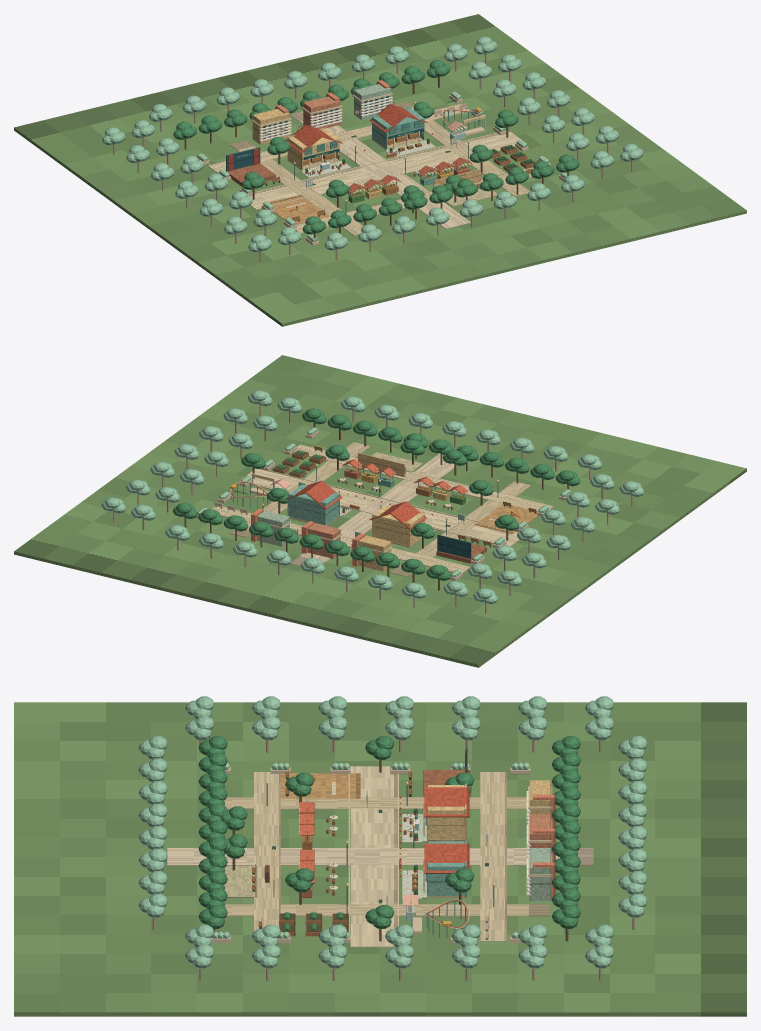
The model's file is estate.glb.
3 views of the same model, one above another, from view 1: azimuth 30°, elevation 25°; view 2: azimuth 150°, elevation 25°; view 3: azimuth 270°, elevation 25° (orthographic). The views are drawn at different scales.
Parts seen in each view (by area): view 1: Continuous neighbourhood terrain, Leafy rain tree canopy.001, Leafy rain tree canopy, East west pedestrian street, Side lane, North south pedestrian street, Cross lane, Rain tree trunk.001, Common corridor, Pitched roof, Rubber playground, Plaster back wall.001 (+7 smaller); view 2: Continuous neighbourhood terrain, Leafy rain tree canopy.001, Leafy rain tree canopy, Cross lane, Side lane, North south pedestrian street, East west pedestrian street, Plaster back wall.001, Rain tree trunk.001, Plaster back wall, Pitched roof, Rubber playground (+9 smaller); view 3: Continuous neighbourhood terrain, Leafy rain tree canopy.001, Leafy rain tree canopy, Cross lane, East west pedestrian street, Side lane, North south pedestrian street, Pitched roof, Rubber playground, Plaster back wall, HDB block.002, Plaster back wall.001 (+9 smaller).
Part boxes in pixels (<box>): Continuous neighbourhood terrain: <box>14,14,746,326</box>; Leafy rain tree canopy.001: <box>102,36,643,252</box>; Leafy rain tree canopy: <box>173,60,579,234</box>; East west pedestrian street: <box>250,131,525,209</box>; Side lane: <box>229,101,529,235</box>; North south pedestrian street: <box>290,111,470,228</box>; Cross lane: <box>207,103,533,233</box>; Rain tree trunk.001: <box>113,53,633,262</box>; Common corridor: <box>259,96,392,141</box>; Pitched roof: <box>285,104,427,153</box>; Rubber playground: <box>269,195,329,224</box>; Plaster back wall.001: <box>372,107,424,149</box>; Continuous neighbourhood terrain: <box>14,355,746,667</box>; Leafy rain tree canopy.001: <box>101,390,644,604</box>; Leafy rain tree canopy: <box>173,408,580,580</box>; Cross lane: <box>211,444,553,572</box>; Side lane: <box>229,442,531,576</box>; North south pedestrian street: <box>290,453,457,566</box>; East west pedestrian street: <box>239,469,519,546</box>; Plaster back wall.001: <box>287,484,339,525</box>; Rain tree trunk.001: <box>113,405,633,613</box>; Plaster back wall: <box>372,505,424,547</box>; Pitched roof: <box>285,481,426,529</box>; Rubber playground: <box>475,504,537,534</box>; Continuous neighbourhood terrain: <box>14,702,746,1016</box>; Leafy rain tree canopy.001: <box>138,696,647,968</box>; Leafy rain tree canopy: <box>198,736,580,928</box>; Cross lane: <box>254,772,506,941</box>; East west pedestrian street: <box>350,766,396,947</box>; Side lane: <box>224,797,550,916</box>; North south pedestrian street: <box>167,848,593,865</box>; Pitched roof: <box>424,787,469,873</box>; Rubber playground: <box>280,773,360,798</box>; Plaster back wall: <box>427,783,466,839</box>; HDB block.002: <box>529,848,551,900</box>; Plaster back wall.001: <box>427,840,466,897</box>.
Bounding box in the file's own units: 110 × 7.68 × 110.
135 materials, 105 textured.
